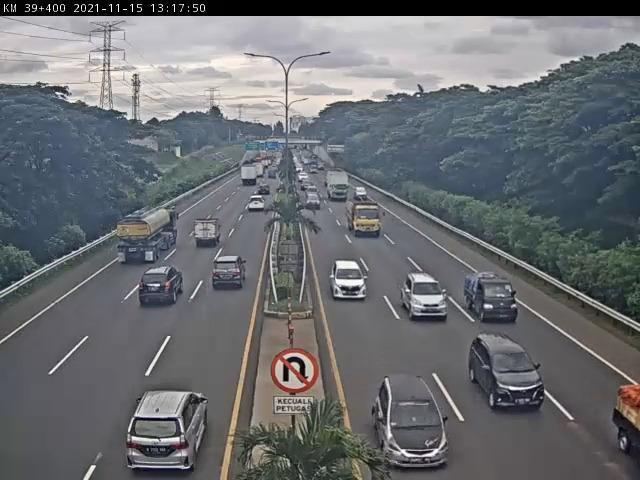car: (376, 376, 455, 470), (128, 391, 208, 472), (469, 332, 546, 416), (466, 271, 520, 324), (403, 274, 449, 321), (140, 268, 187, 307), (332, 263, 371, 304), (214, 256, 249, 290), (194, 217, 224, 247), (250, 196, 269, 211)
truck: (117, 207, 182, 264), (346, 200, 384, 238)
